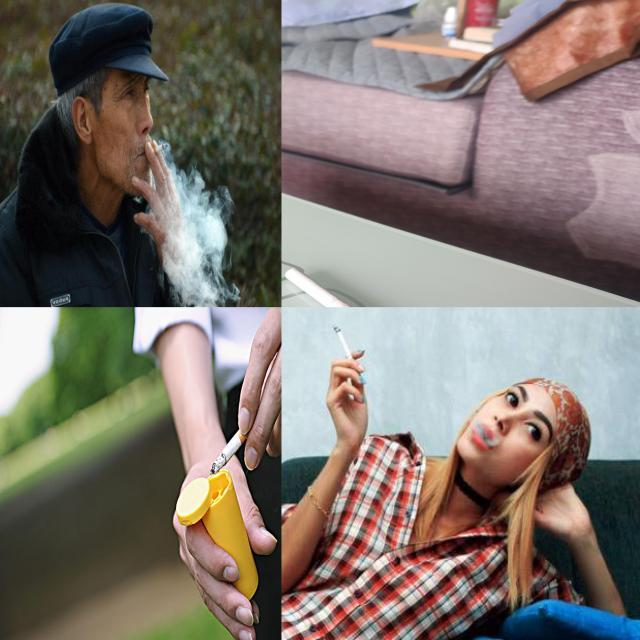smoke: (128, 143, 188, 252), (329, 324, 380, 438), (207, 420, 250, 478)
